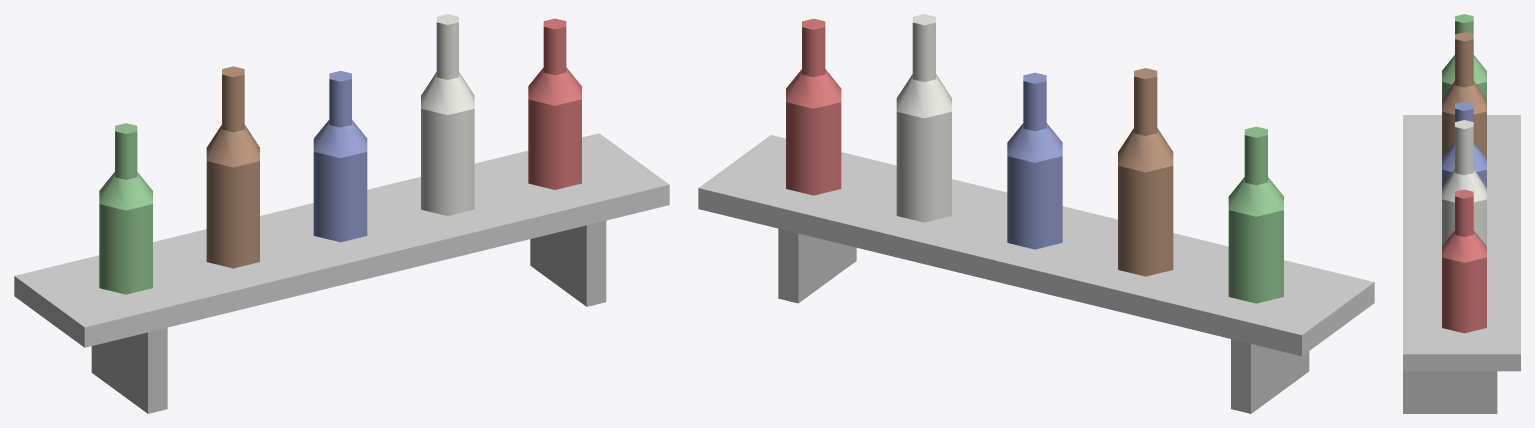
The model's file is wall_shelf.glb.
3 views of the same model, side by side, from view 1: azimuth 30°, elevation 25°; view 2: azimuth 150°, elevation 25°; view 3: azimuth 270°, elevation 25° (orthographic). The views are drawn at different scales.
Visible parts, largest first — view 1: Wall_shelf; view 2: Wall_shelf; view 3: Wall_shelf.
Boxes of the visible parts, <box> form: Wall_shelf: <box>14,14,669,413</box>; Wall_shelf: <box>698,14,1374,413</box>; Wall_shelf: <box>1403,14,1520,413</box>.
Size of the model in its own units: 1.2 by 0.56 by 0.25.
